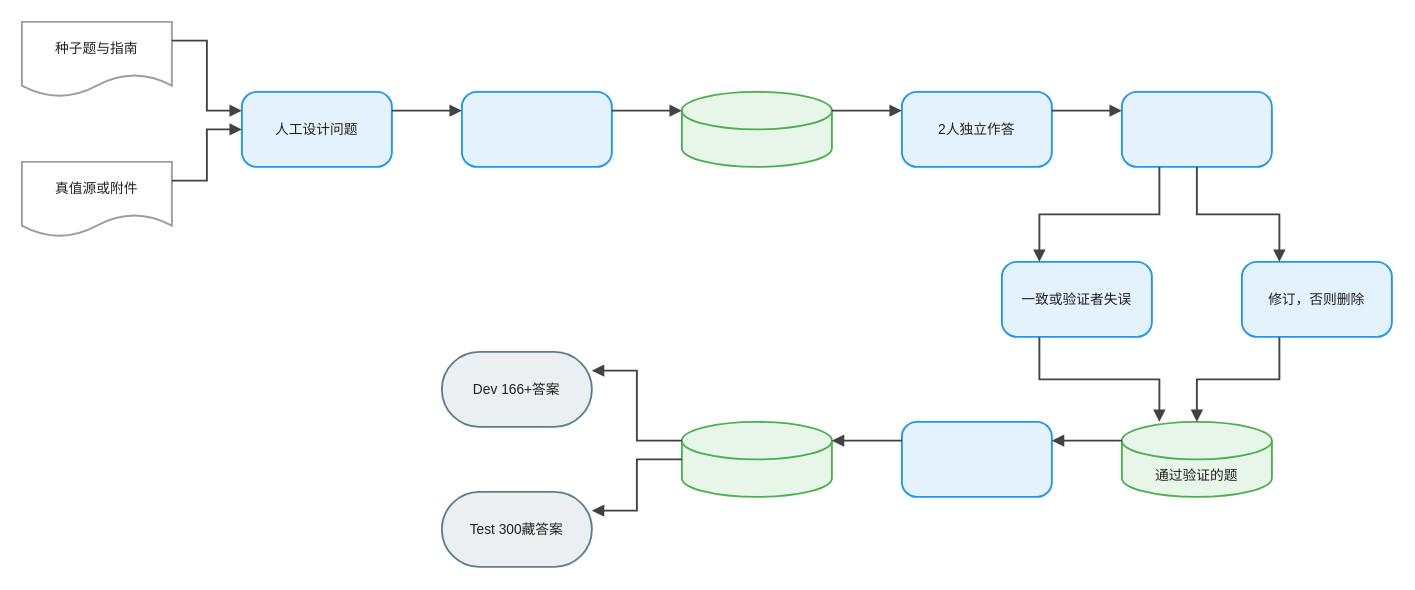
This 1415x590 diagram has some shape labels left out. The centre of each missing label's shape, as x and y in pixels:
"623个验证候选" goes at (x=756, y=128).
"GAIA 466题" goes at (x=756, y=458).
"按步骤/工具分级" goes at (x=976, y=458).
"比对并诊断分歧" goes at (x=1196, y=128).
"答案+工具元数据" goes at (x=536, y=128).
